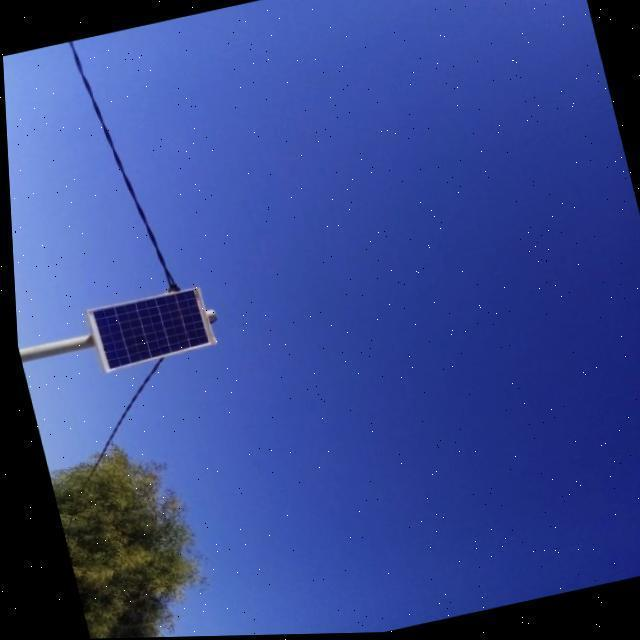Normal Solar Panel: (82, 287, 215, 373)
